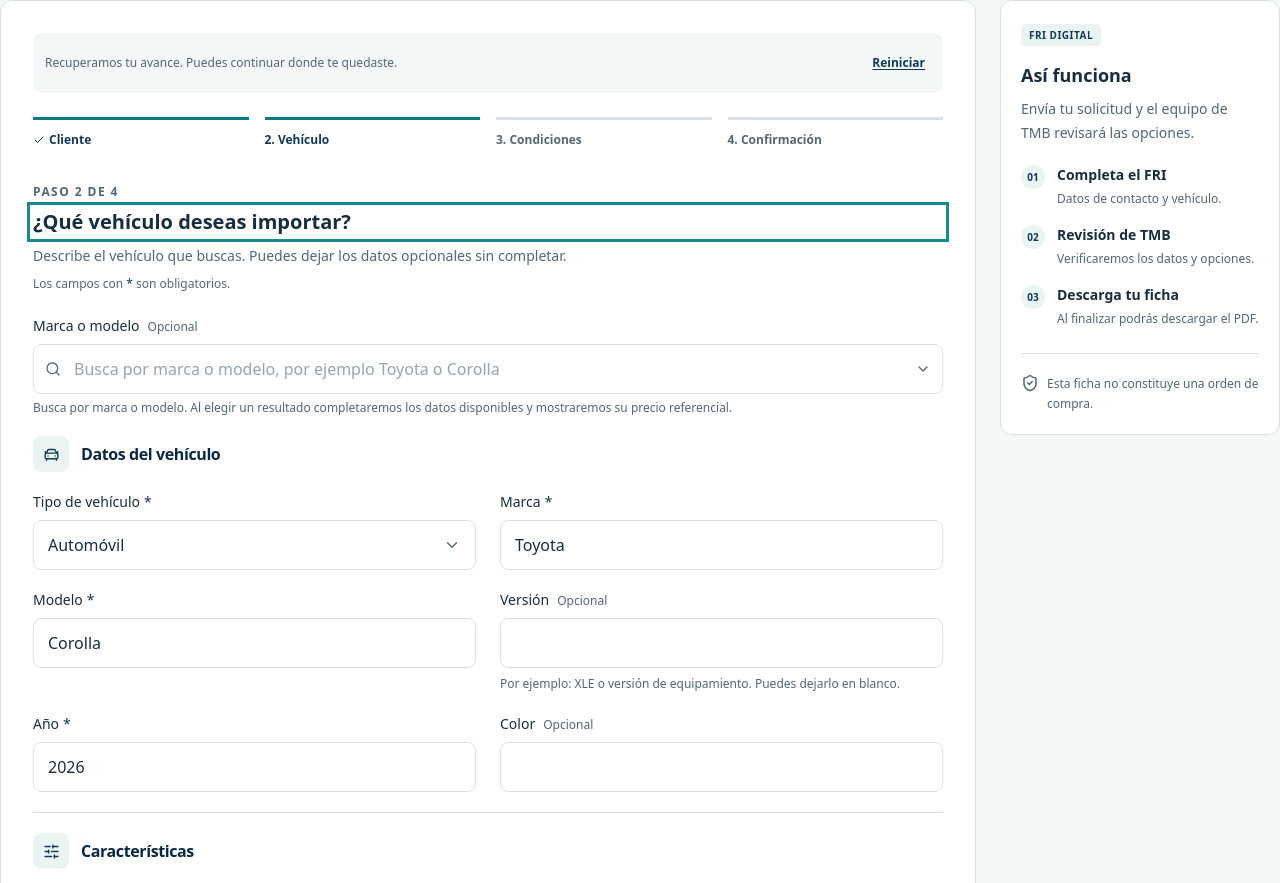
Test case: Flujo público FRI › limpia los datos del vehículo al elegir el ingreso manual
Type "vehículo fuera del catálogo" into the dropdown labelled "Marca o modelo". click: (488, 369)
box: left=33, top=344, right=943, bottom=394
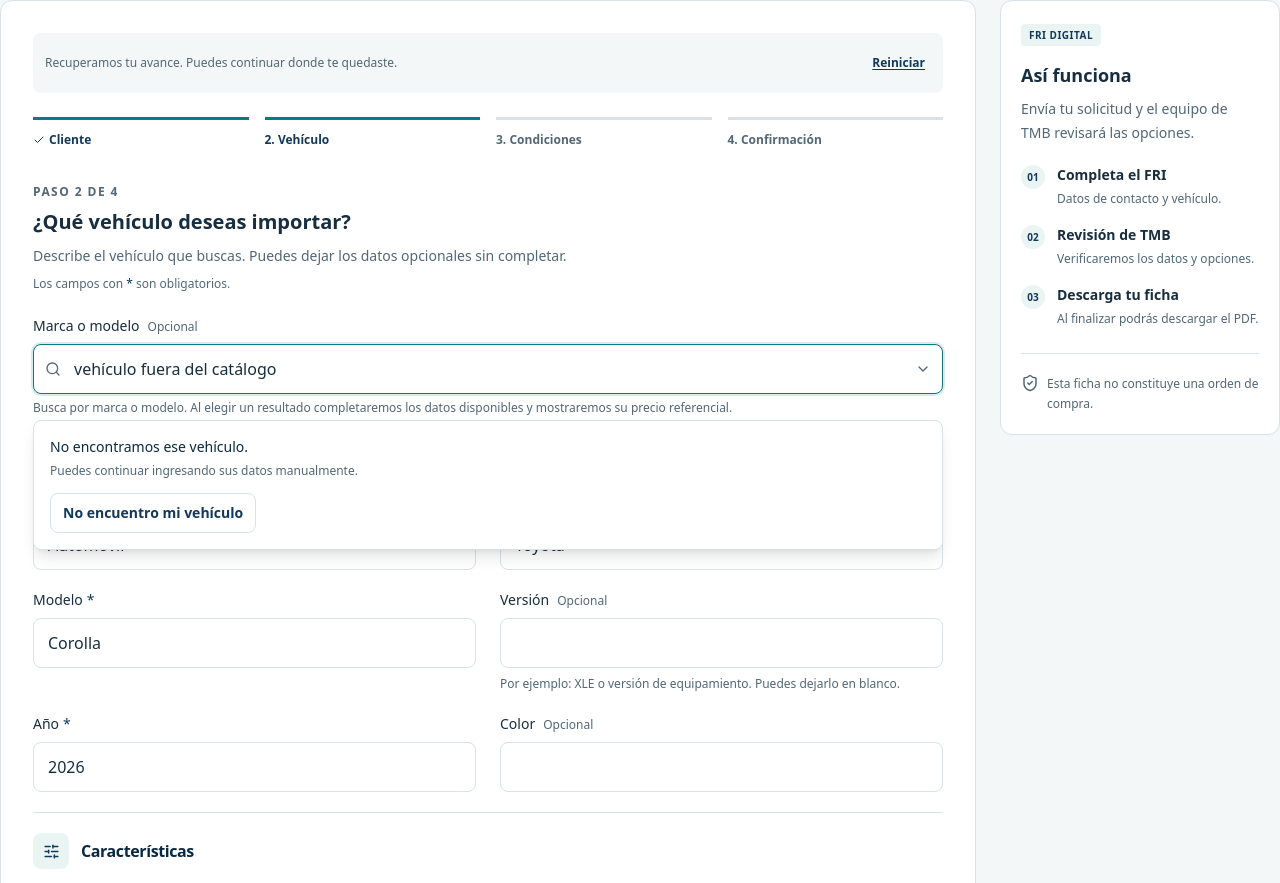
Click the button "No encuentro mi vehículo". click: (153, 513)
box: left=50, top=493, right=256, bottom=533
(page scrolled)
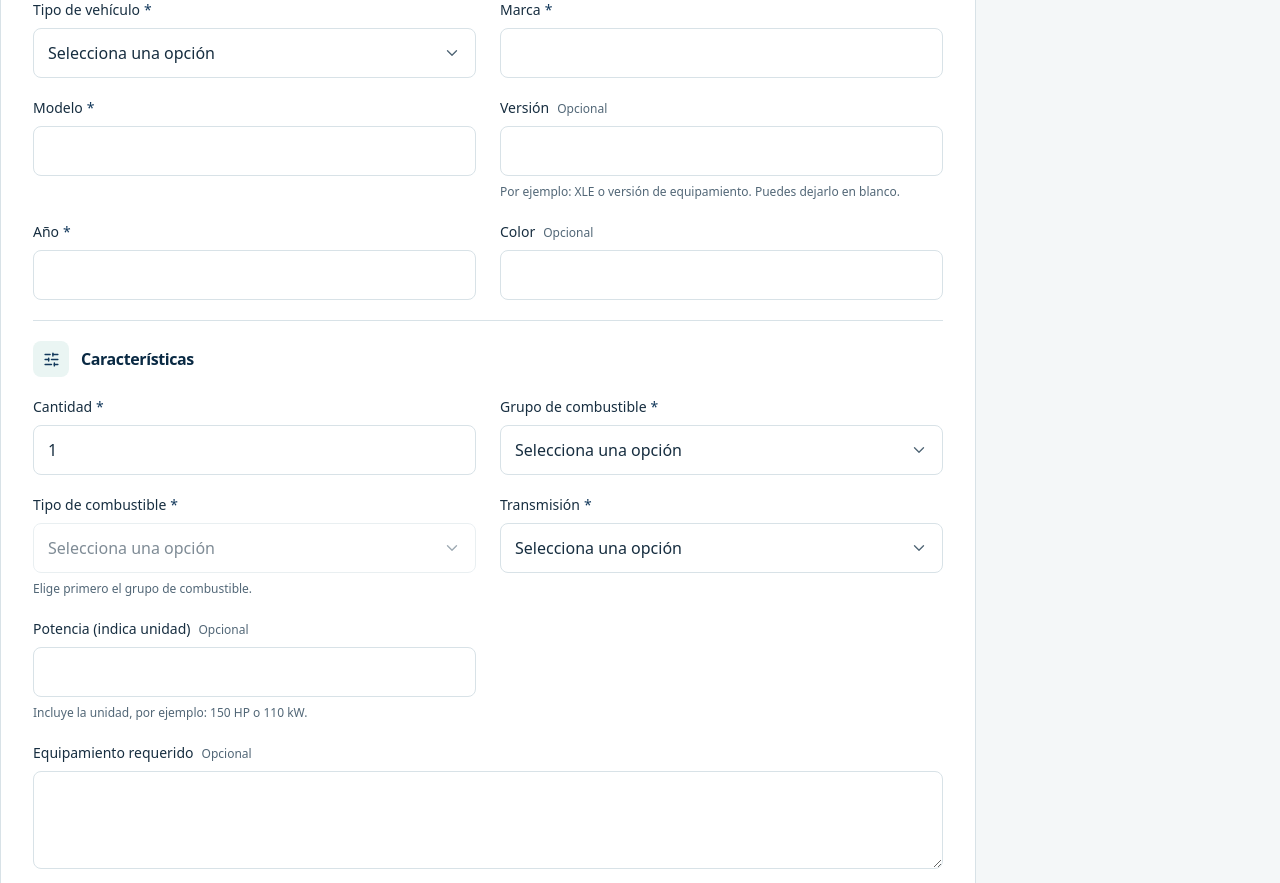
Expected: the dropdown labelled "Tipo de vehículo*" shows "Selecciona una opción", left=33, top=28, right=476, bottom=78
Expected: the field labelled "Marca*" is empty, left=500, top=28, right=943, bottom=78
Expected: the field labelled "Modelo*" is empty, left=33, top=126, right=476, bottom=176
